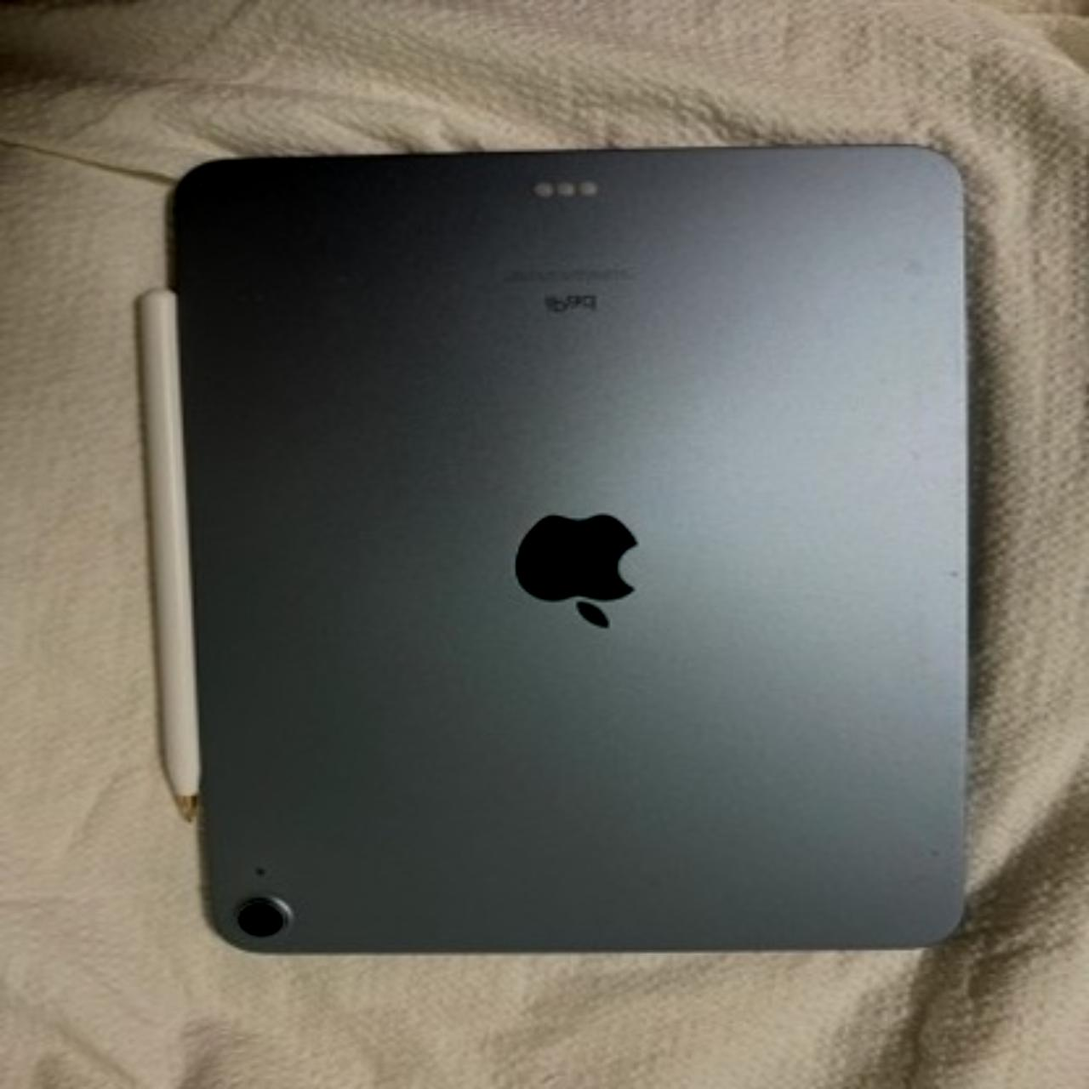Tablet_PC: (129, 110, 998, 966)
